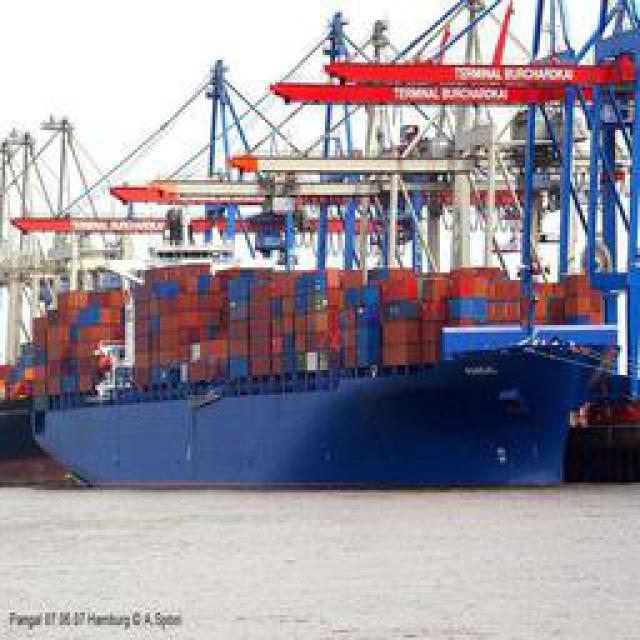Ship: (4, 251, 637, 497)
